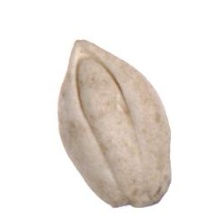L1: (67, 35, 105, 71), (115, 190, 169, 208)
L2: (57, 38, 173, 208)
